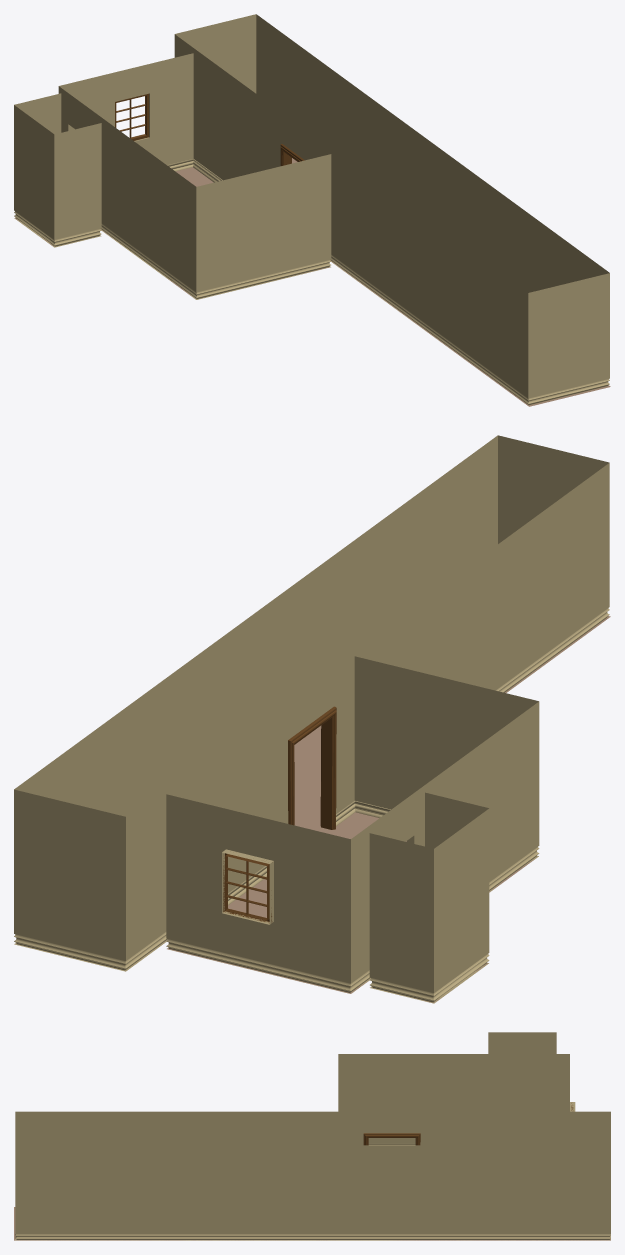
File: shittyroom.fbx
3 renders of one model, top to bottom at view 1: azimuth 30°, elevation 25°; view 2: azimuth 150°, elevation 25°; view 3: azimuth 270°, elevation 25°, orthographic. The views are drawn at different scales.
Parts seen in each view (by area): view 1: Plane, Plane.001, Plane.003; view 2: Plane, Plane.001, Plane.002, Plane.003; view 3: Plane, Plane.001, Plane.002.
Boxes of the visible parts, x1,y1,x2,y2 form: Plane: (14, 14, 609, 405); Plane.001: (15, 158, 610, 406); Plane.003: (115, 93, 148, 140); Plane: (14, 435, 609, 1003); Plane.001: (15, 616, 610, 1002); Plane.002: (288, 706, 336, 829); Plane.003: (223, 853, 272, 923); Plane: (15, 1032, 610, 1240); Plane.001: (14, 1207, 610, 1240); Plane.002: (363, 1133, 420, 1145).
Bounding box in the file's own units: 1075 × 423 × 2404.
